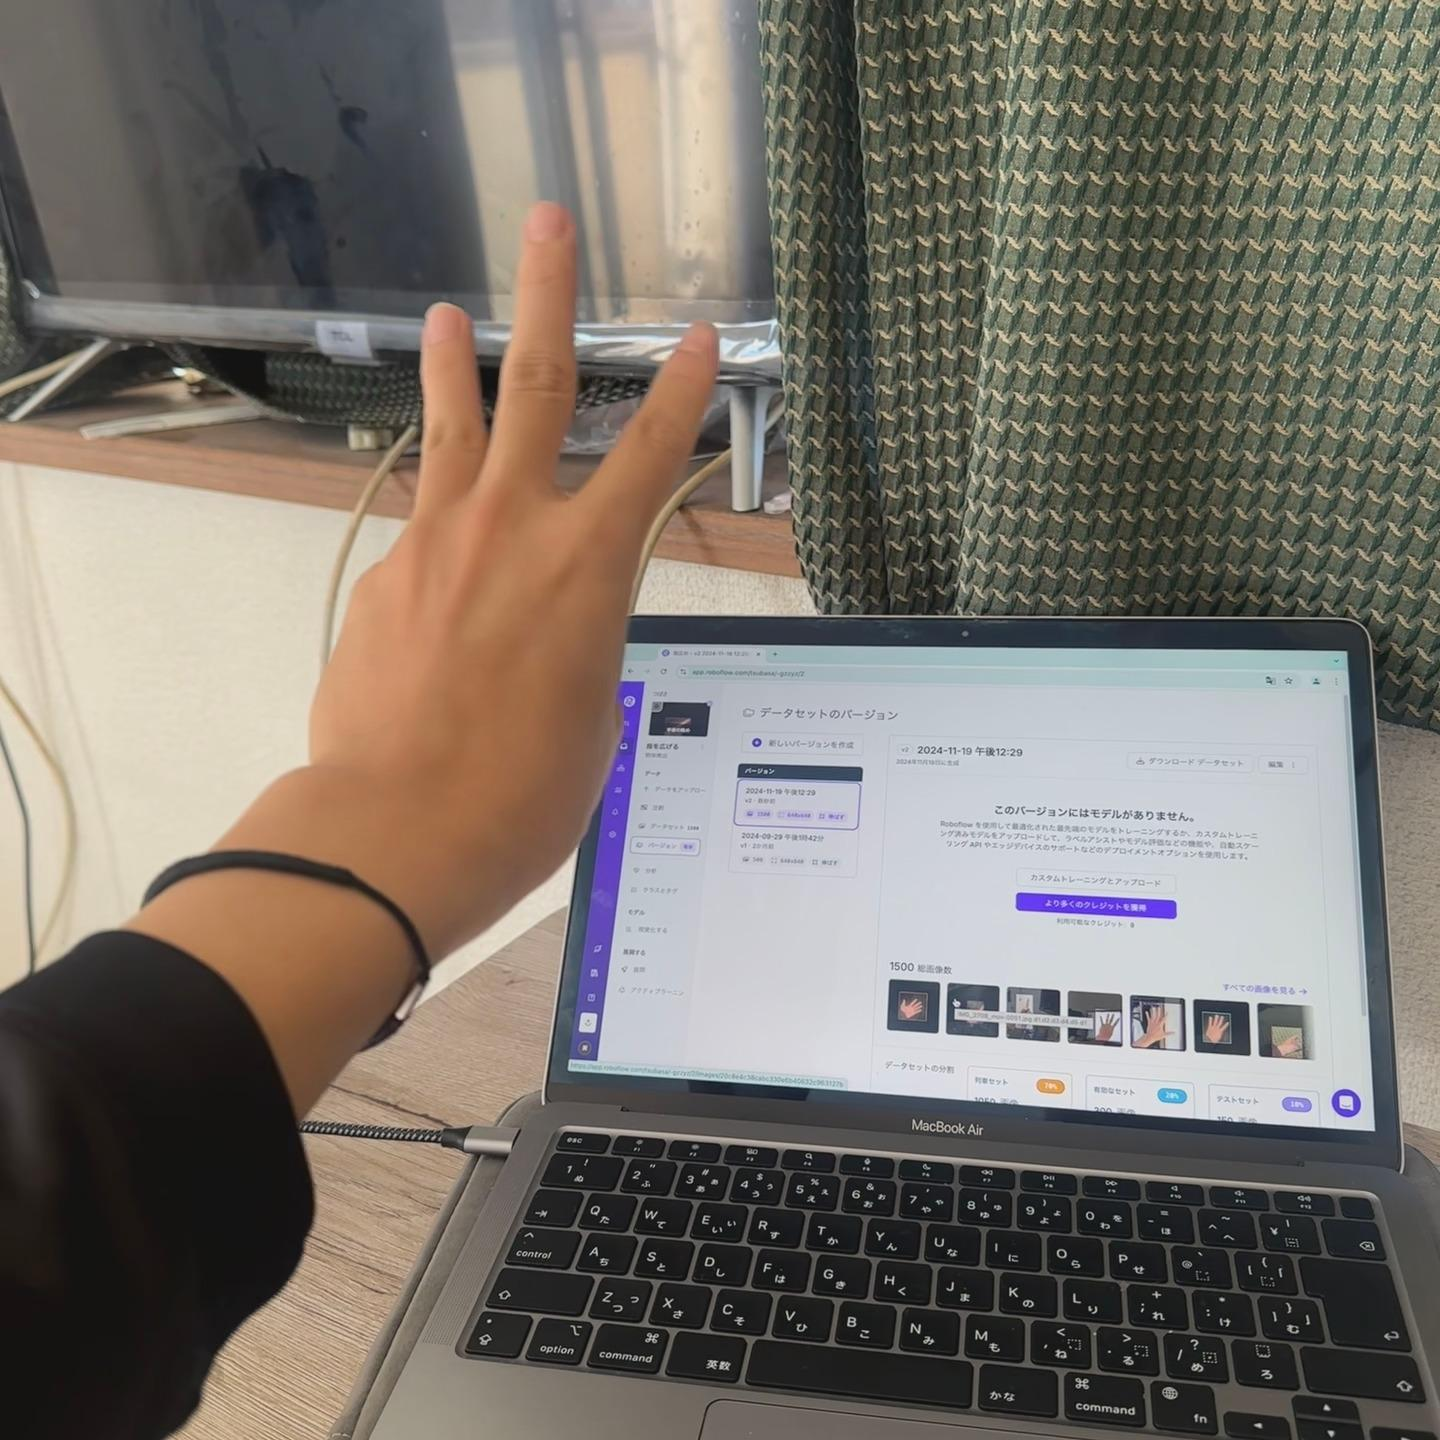without_gloves: (228, 190, 767, 939)
